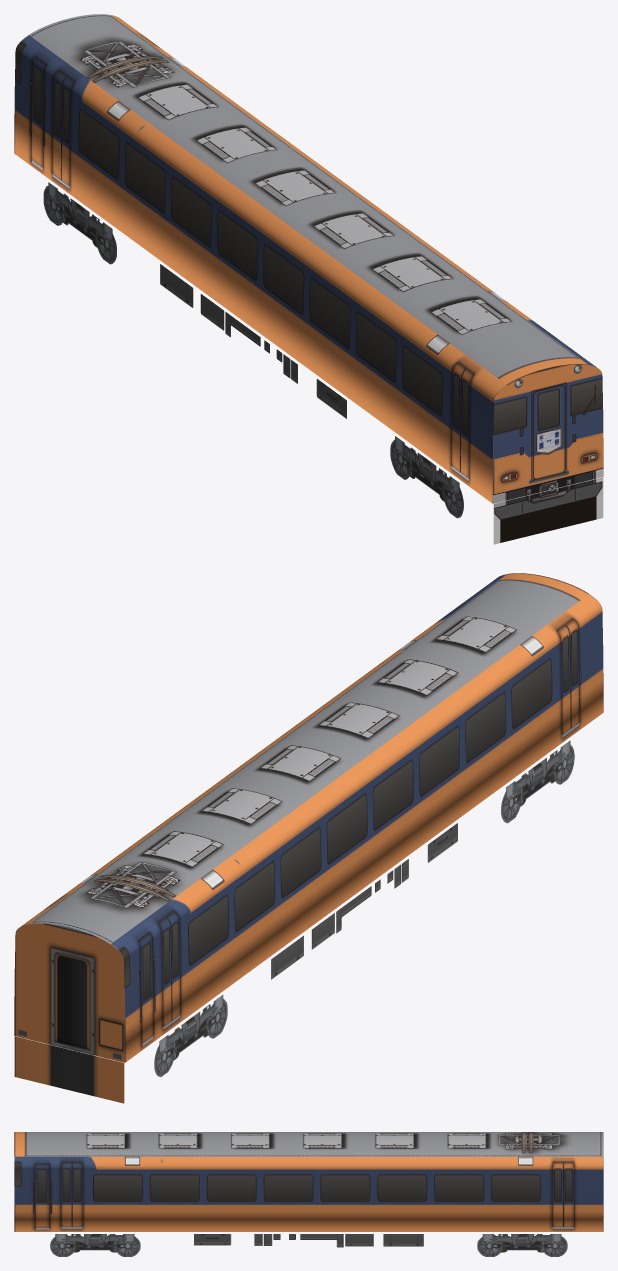
Rendered from car1.glb.
3 renders of one model, top to bottom at view 1: azimuth 30°, elevation 25°; view 2: azimuth 150°, elevation 25°; view 3: azimuth 270°, elevation 25°, orthographic. The views are drawn at different scales.
Parts seen in each view (by area): view 1: oigawa-16000; view 2: oigawa-16000; view 3: oigawa-16000.
Part boxes in pixels (x1,y1,x2,y2): oigawa-16000: [14, 14, 603, 544]; oigawa-16000: [14, 573, 603, 1103]; oigawa-16000: [14, 1132, 603, 1256].
Bounding box in the file's own units: 2.74 × 3.84 × 20.53.
8 materials, 7 textured.
